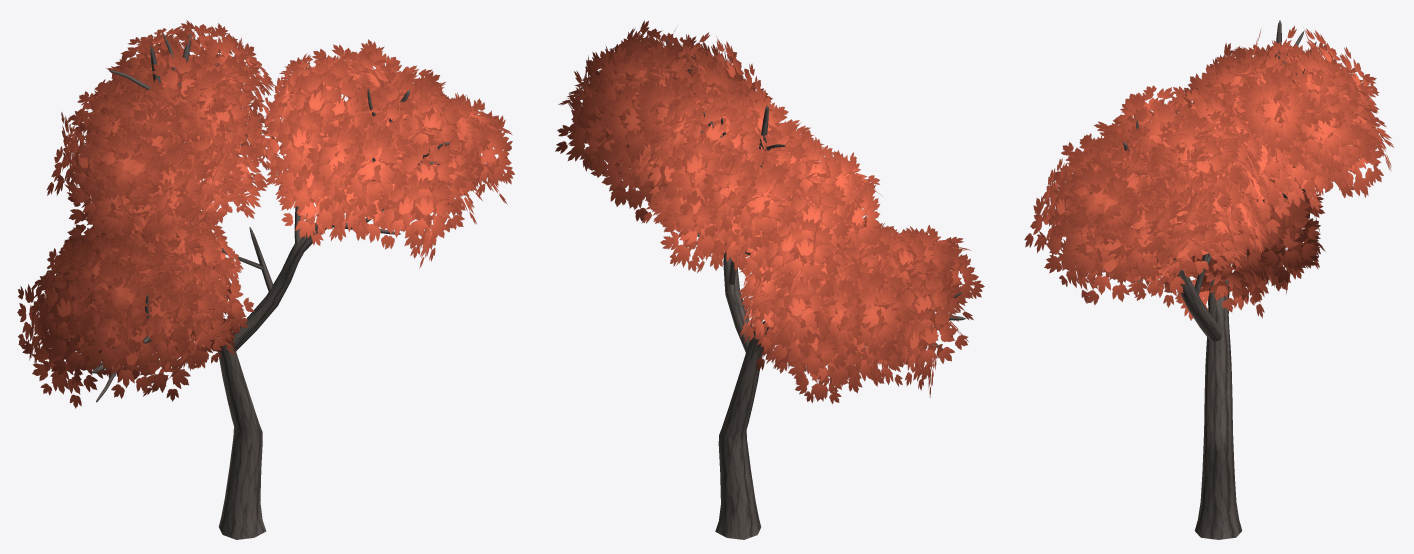
The model's file is MapleTree_5.glb.
3 views of the same model, side by side, from view 1: azimuth 30°, elevation 25°; view 2: azimuth 150°, elevation 25°; view 3: azimuth 270°, elevation 25° (orthographic). The views are drawn at different scales.
Visible parts, largest first — view 1: MapleTree_5; view 2: MapleTree_5; view 3: MapleTree_5.
Part boxes in pixels (box(x1,y1,x2,y2)): MapleTree_5: box(17, 20, 514, 539); MapleTree_5: box(555, 20, 984, 539); MapleTree_5: box(1024, 20, 1394, 539).
Bounding box in the file's own units: 7.01 × 7.28 × 5.08.
2 materials, 2 textured.
